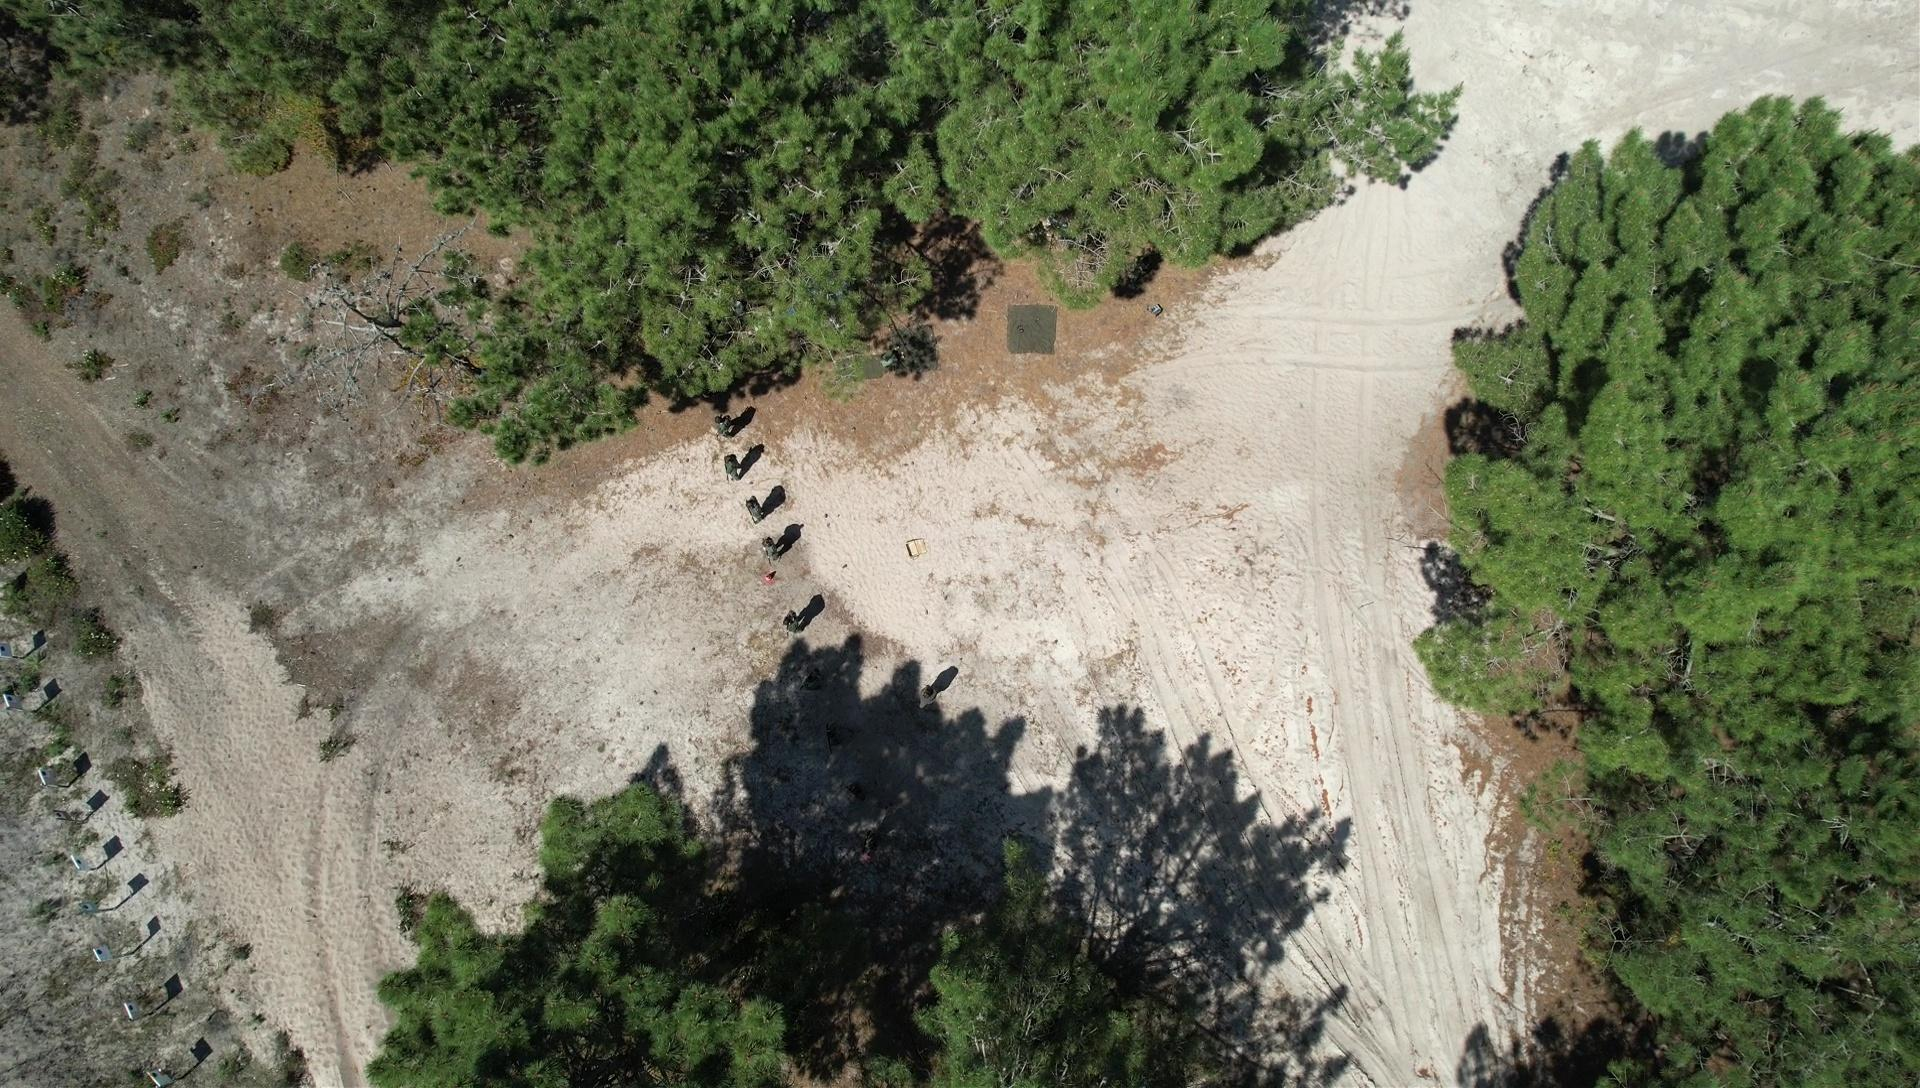Soldier: (910, 679, 942, 710), (783, 608, 810, 644), (761, 538, 793, 566), (721, 451, 746, 485), (709, 409, 738, 437), (742, 496, 766, 529), (820, 723, 845, 753), (804, 667, 829, 695), (840, 775, 866, 799)
